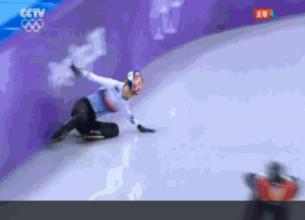fall: (45, 55, 157, 143)
